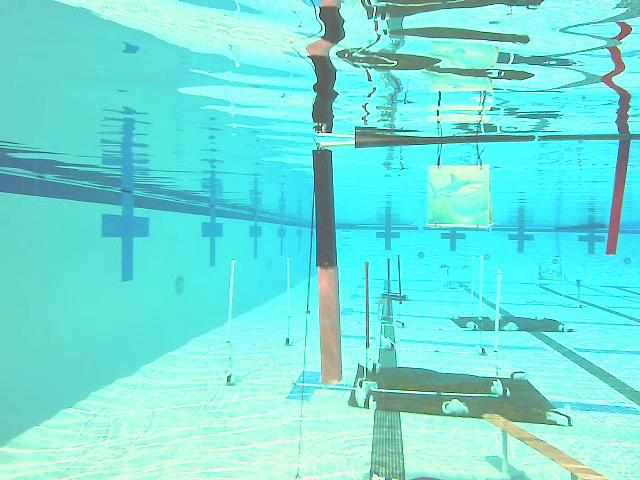black_poster: (361, 262, 375, 363), (384, 258, 396, 328)
divider: (610, 139, 631, 254)
left_gate_poster: (311, 152, 351, 388)
shark: (427, 162, 495, 230)
white_poster: (492, 278, 511, 395), (222, 259, 239, 387), (476, 253, 489, 353), (284, 255, 296, 346)
